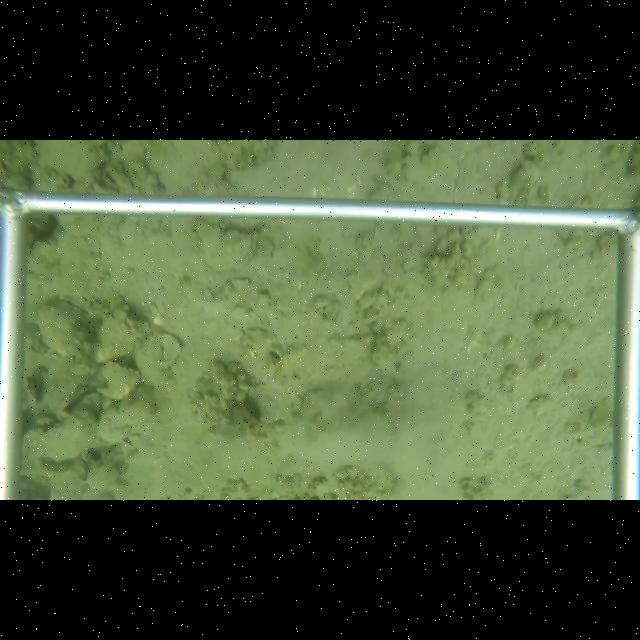Oyster-Closed: (32, 296, 98, 364), (194, 220, 260, 274)
